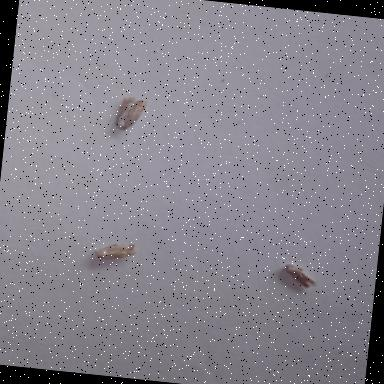pbw: (112, 94, 148, 133), (92, 240, 138, 264), (283, 264, 318, 290)
